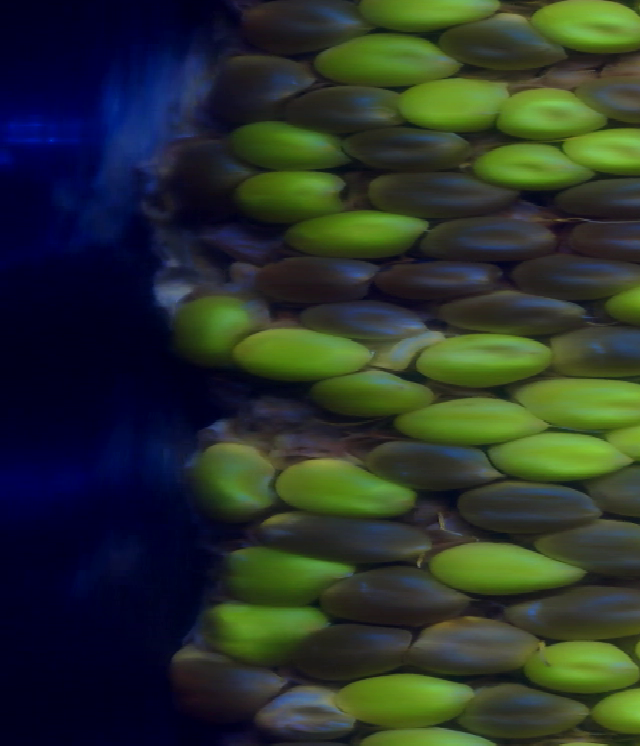fluorescent: (423, 539, 595, 595), (413, 333, 565, 392), (274, 458, 424, 517), (310, 32, 459, 91), (202, 602, 339, 664), (189, 440, 283, 529), (225, 546, 359, 607), (240, 322, 369, 384), (490, 427, 640, 480), (330, 676, 489, 725), (390, 394, 553, 441), (493, 79, 606, 144), (282, 213, 432, 261), (310, 365, 448, 417), (517, 1, 640, 57), (171, 292, 258, 368), (396, 76, 508, 135), (518, 376, 640, 430), (470, 138, 591, 192), (226, 119, 350, 171), (227, 168, 347, 221), (528, 641, 640, 695), (365, 1, 510, 29), (561, 123, 640, 173), (359, 727, 532, 746), (586, 689, 640, 734), (601, 279, 640, 323), (603, 424, 640, 462)
nonfluorescent: (434, 5, 576, 77), (264, 509, 429, 563), (170, 650, 289, 723), (451, 478, 604, 534), (401, 615, 543, 673), (328, 568, 469, 626), (213, 49, 321, 120), (361, 169, 525, 214), (532, 514, 640, 581), (158, 146, 258, 216), (376, 438, 504, 492), (240, 1, 385, 48), (423, 215, 556, 265), (293, 624, 416, 678), (455, 688, 600, 733), (251, 255, 396, 300), (292, 300, 430, 346), (446, 290, 588, 333), (510, 256, 640, 301), (334, 127, 480, 167), (507, 589, 640, 630), (283, 88, 415, 128), (373, 261, 513, 296), (546, 326, 640, 370), (566, 217, 640, 262), (559, 176, 640, 214), (582, 464, 640, 513), (576, 83, 640, 123)
